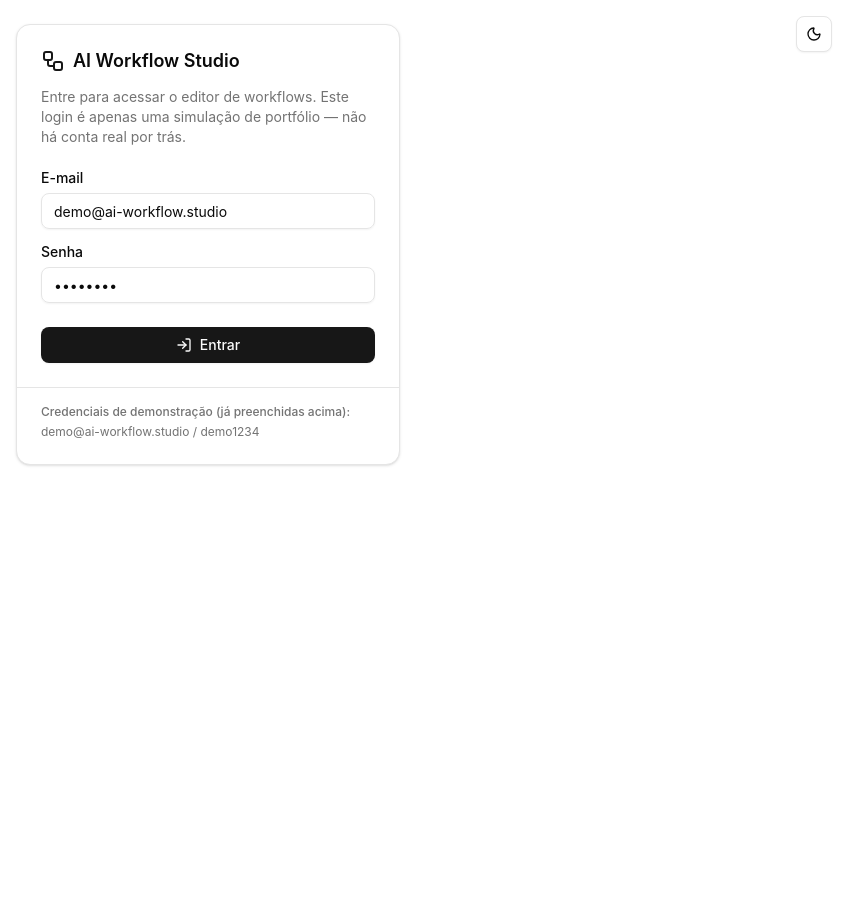
Test: LoginPage › mostra um erro e não navega com credenciais incorretas
In the password field labelled "Senha": [208, 285] box [41,267,375,303], type "senha-errada"
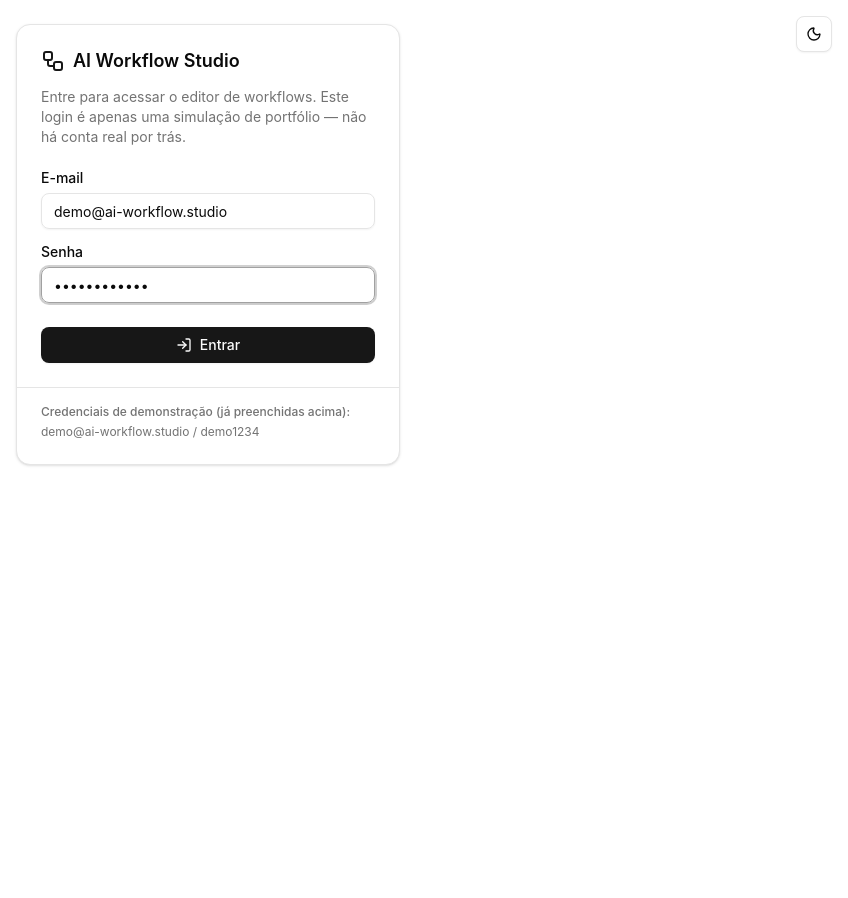
Click the button "Entrar": [208, 345] box [41,327,375,363]
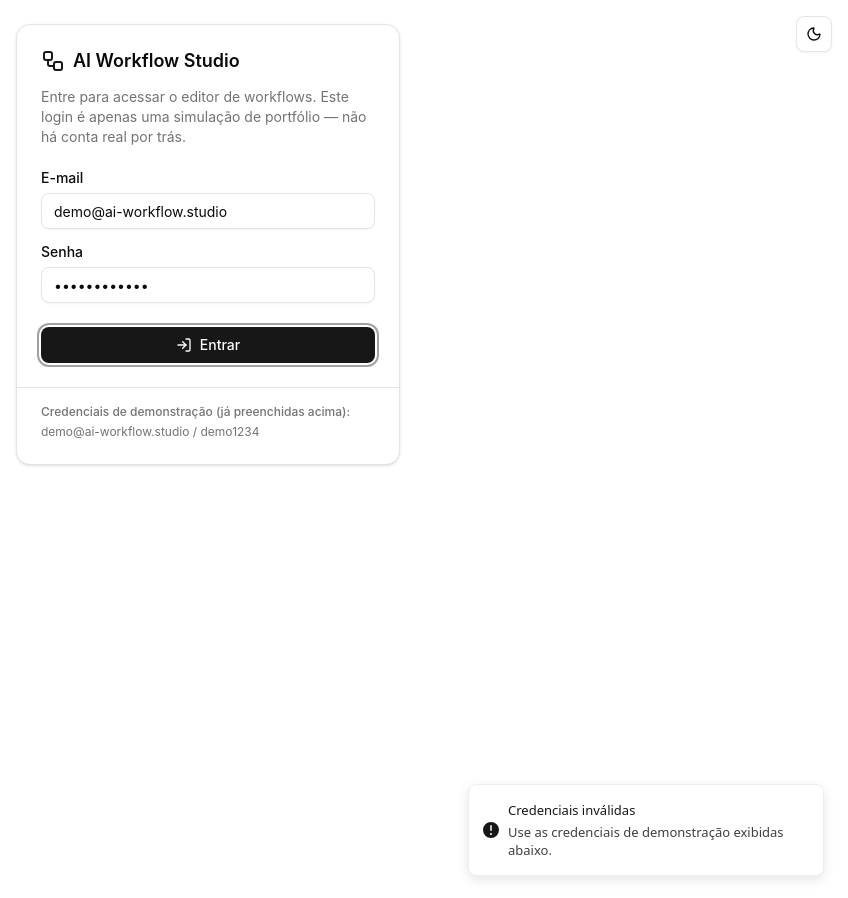
expect the text "Credenciais inválidas" is shown: met, box [508,801,635,819]
